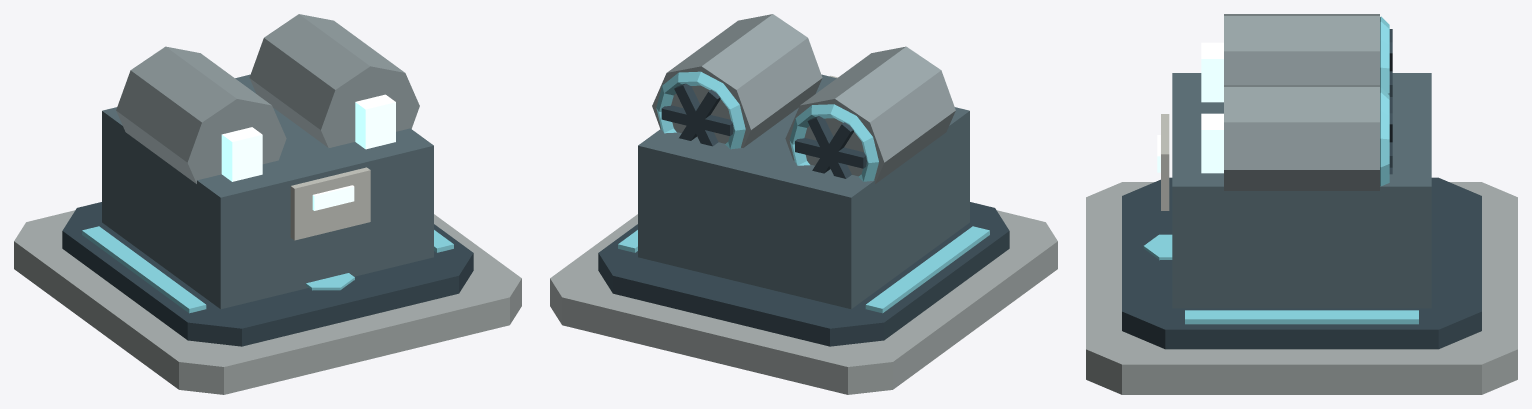
The model's file is generator-low.glb.
3 renders of one model, left to right at view 1: azimuth 30°, elevation 25°; view 2: azimuth 150°, elevation 25°; view 3: azimuth 270°, elevation 25°, orthographic. The views are drawn at different scales.
Visible parts, largest first — view 1: asset_generator__FP_Baked, asset_generator__FP_Signal, asset_generator__FP_Team, Hexagon; view 2: asset_generator__FP_Baked, asset_generator__FP_Team; view 3: asset_generator__FP_Baked, asset_generator__FP_Team, asset_generator__FP_Signal, Hexagon.
Boxes of the visible parts, left/top/right/bottom form: asset_generator__FP_Baked: left=14, top=14, right=521, bottom=394; asset_generator__FP_Signal: left=221, top=94, right=395, bottom=210; asset_generator__FP_Team: left=82, top=226, right=453, bottom=313; Hexagon: left=306, top=273, right=354, bottom=290; asset_generator__FP_Baked: left=550, top=14, right=1057, bottom=394; asset_generator__FP_Team: left=618, top=71, right=989, bottom=313; asset_generator__FP_Baked: left=1086, top=14, right=1517, bottom=394; asset_generator__FP_Team: left=1185, top=16, right=1418, bottom=324; asset_generator__FP_Signal: left=1157, top=42, right=1223, bottom=173; Hexagon: left=1143, top=234, right=1172, bottom=259.
Size of the model in its own units: 1.8 by 1.16 by 1.8.
